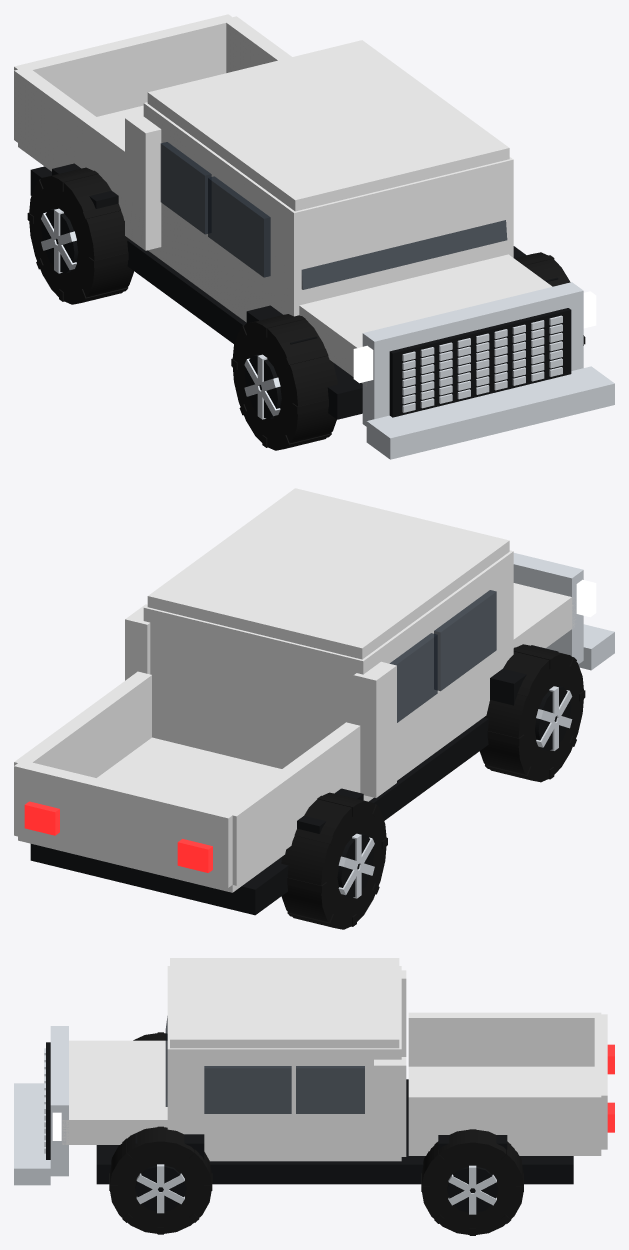
The model's file is grr-grizzly.glb.
3 renders of one model, top to bottom at view 1: azimuth 30°, elevation 25°; view 2: azimuth 150°, elevation 25°; view 3: azimuth 270°, elevation 25°, orthographic. The views are drawn at different scales.
Visible parts, largest first — view 1: chassis, wheel-front-left, wheel-back-left, glass, wheel-front-right; view 2: chassis, wheel-back-left, wheel-front-left; view 3: chassis, wheel-front-right, wheel-back-right.
Part boxes in pixels (<box>): chassis: <box>14,14,614,459</box>; wheel-front-left: <box>231,314,337,450</box>; wheel-back-left: <box>27,167,133,304</box>; glass: <box>301,220,507,289</box>; wheel-front-right: <box>514,252,585,345</box>; chassis: <box>14,488,614,915</box>; wheel-back-left: <box>281,792,387,929</box>; wheel-front-left: <box>479,644,585,782</box>; chassis: <box>14,958,614,1185</box>; wheel-front-right: <box>109,1126,212,1234</box>; wheel-back-right: <box>421,1129,523,1235</box>.
Bounding box in the file's own units: 2.97 × 2.18 × 6.55.
